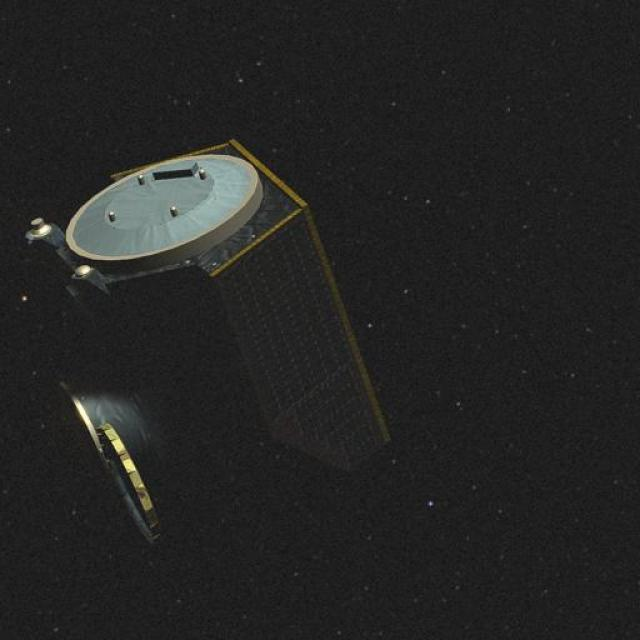cheops: (41, 130, 388, 554)
